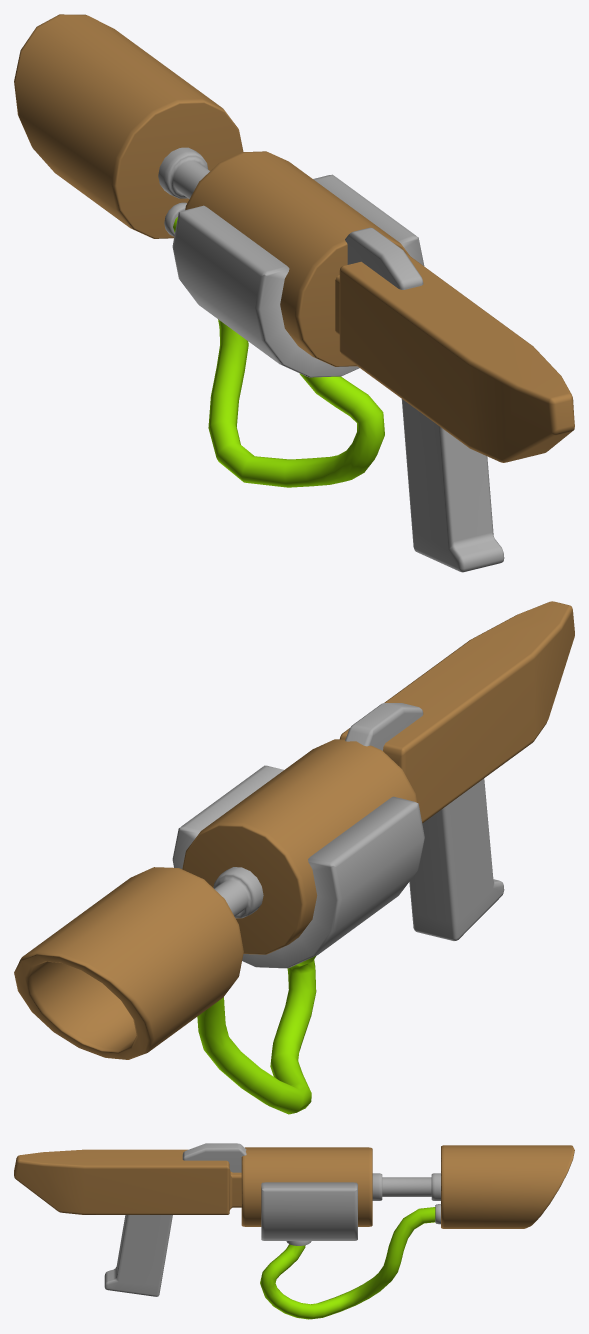
Rendered from FlameThrower.fbx.
3 renders of one model, top to bottom at view 1: azimuth 30°, elevation 25°; view 2: azimuth 150°, elevation 25°; view 3: azimuth 270°, elevation 25°, orthographic. The views are drawn at different scales.
Parts seen in each view (by area): view 1: FlameThrower; view 2: FlameThrower; view 3: FlameThrower.
Part boxes in pixels (x1,y1,x2,y2): FlameThrower: [14, 14, 574, 572]; FlameThrower: [14, 601, 574, 1114]; FlameThrower: [14, 1143, 574, 1319].
Bounding box in the file's own units: 206 × 363 × 1069.
